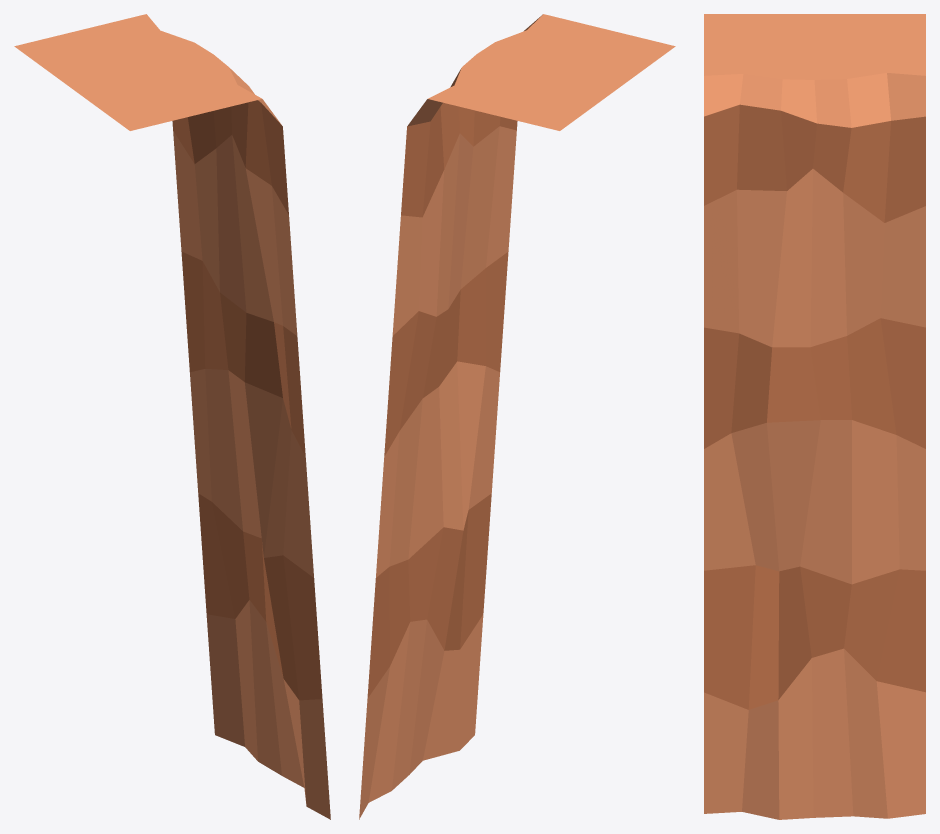
The model's file is Straight_Cliff_3.fbx.
3 renders of one model, left to right at view 1: azimuth 30°, elevation 25°; view 2: azimuth 150°, elevation 25°; view 3: azimuth 270°, elevation 25°, orthographic. The views are drawn at different scales.
Visible parts, largest first — view 1: Straight_Cliff_3; view 2: Straight_Cliff_3; view 3: Straight_Cliff_3.
Boxes of the visible parts, left/top/right/bottom form: Straight_Cliff_3: left=14, top=14, right=330, bottom=819; Straight_Cliff_3: left=359, top=14, right=675, bottom=819; Straight_Cliff_3: left=704, top=14, right=925, bottom=819.
Bounding box in the file's own units: 213 × 702 × 200.
